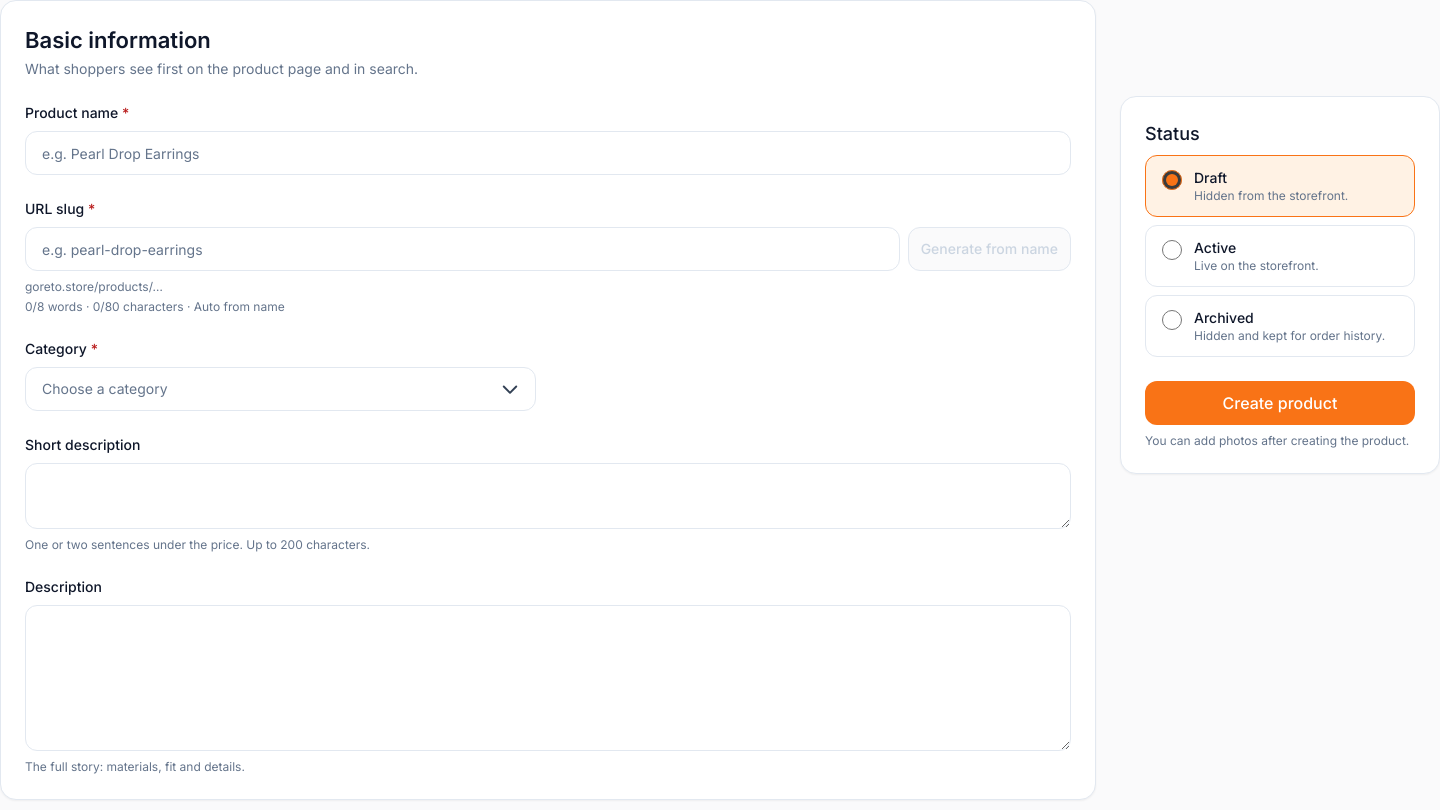
Test: ProductForm › fills the slug from the title for a new product
Step 1. Type "Pearl Drop Earrings" into the field labelled "Product name *" → (548, 153), box x1=25 y1=131 x2=1071 y2=175
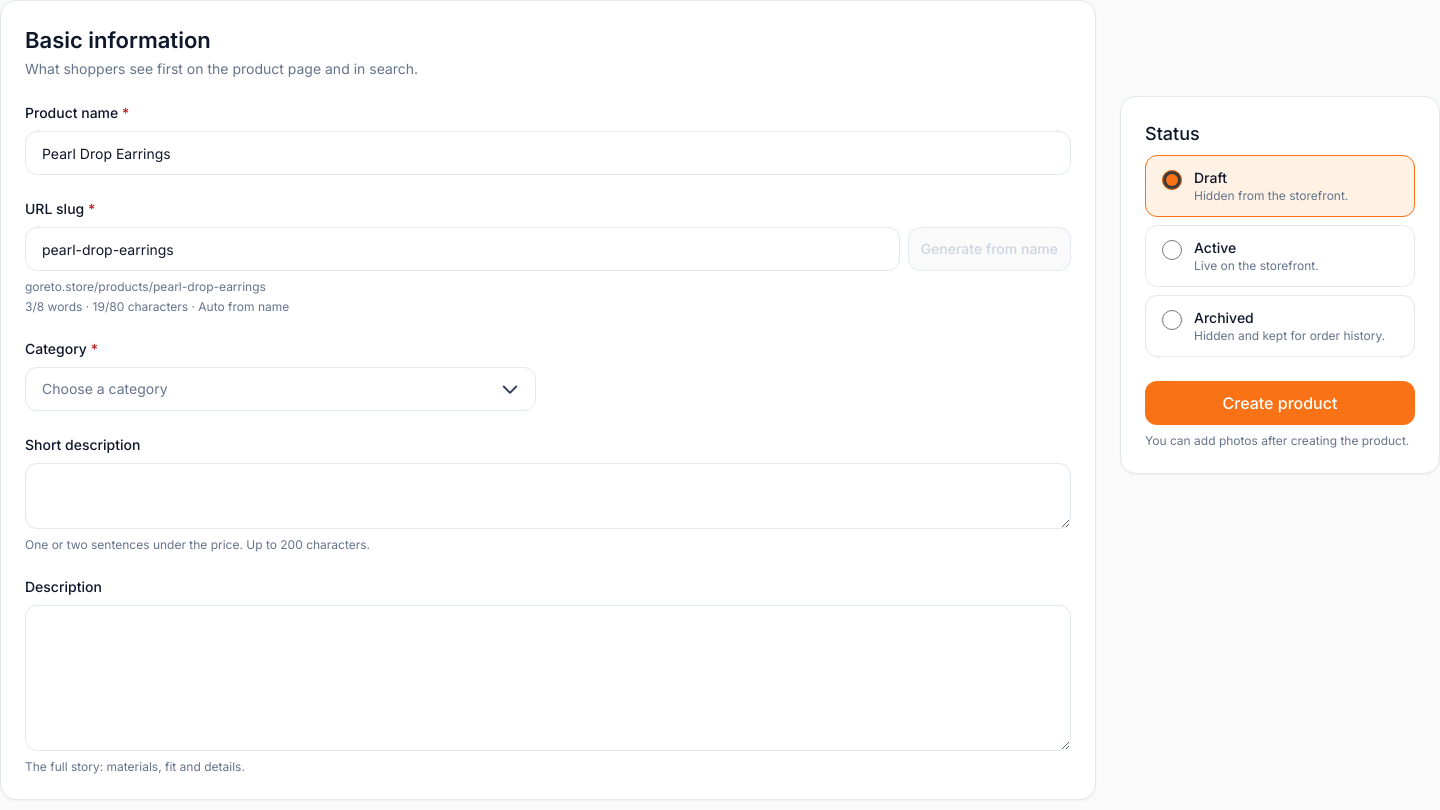
Expected: the field labelled "URL slug *" holds "pearl-drop-earrings", x1=25 y1=227 x2=900 y2=271
